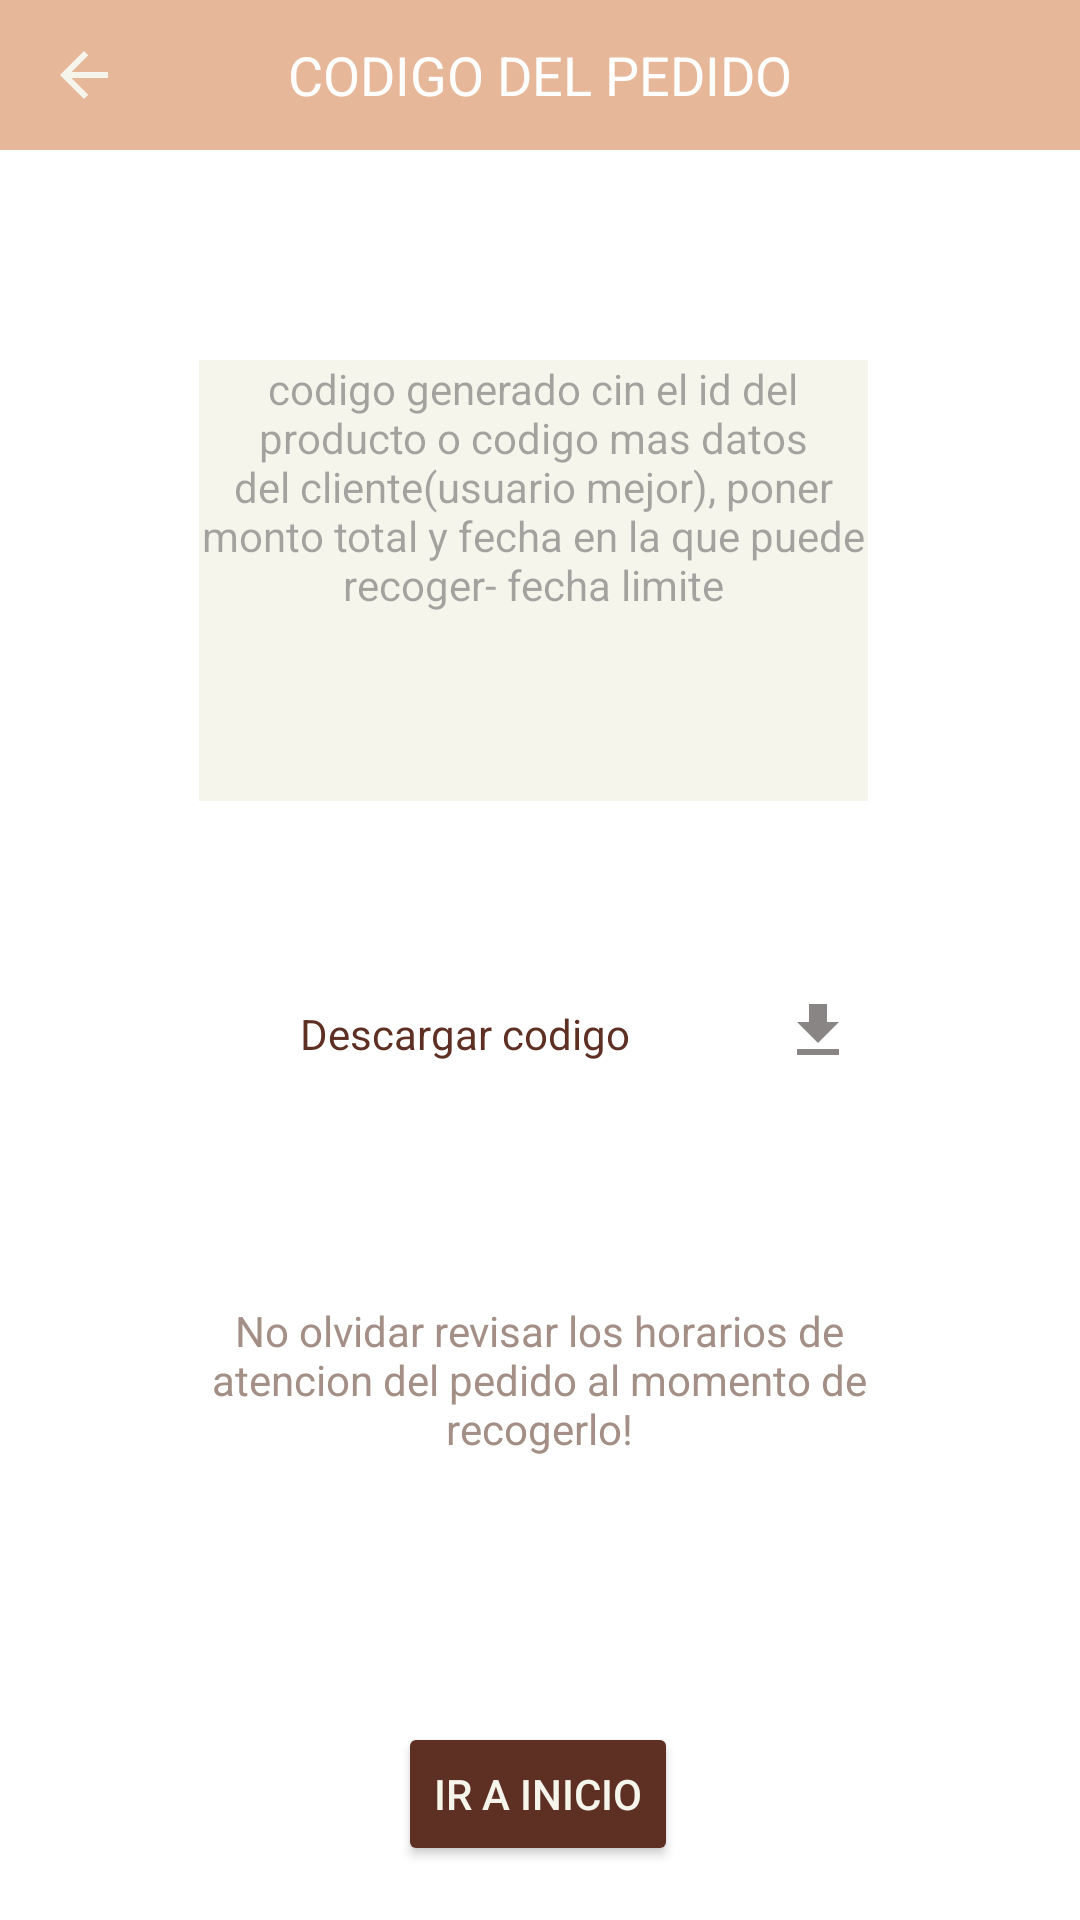

Icon click points for this 1080 × 1920 phone screenshot, format point (x, y):
back activity: point (84, 75)
